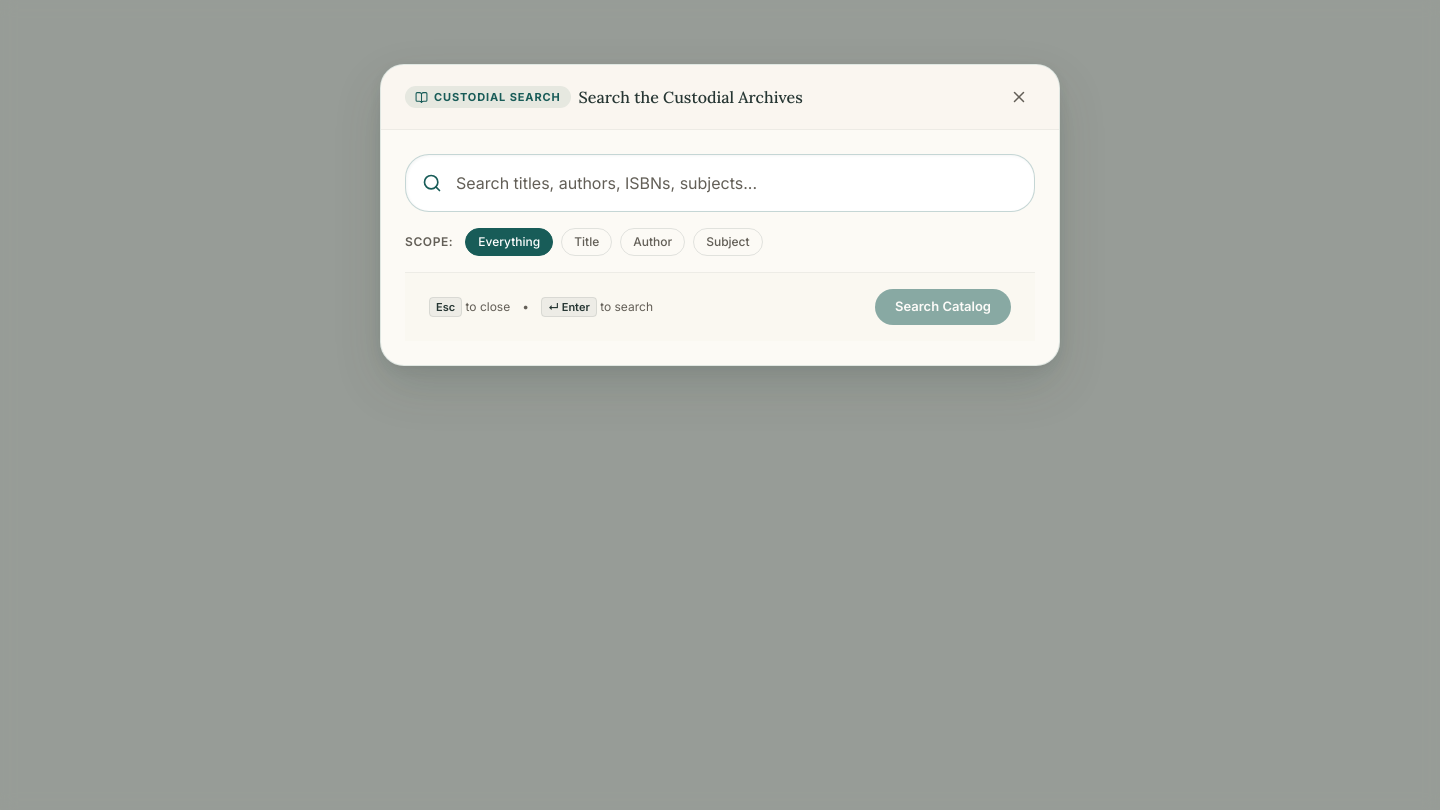
Test: SearchModal Component › allows user to type into the search field and clear it
This screenshot has width=1440, height=810.
Type "Borges" into the search field named "Search catalog folios" at (738, 183), box [442, 155, 1034, 211]
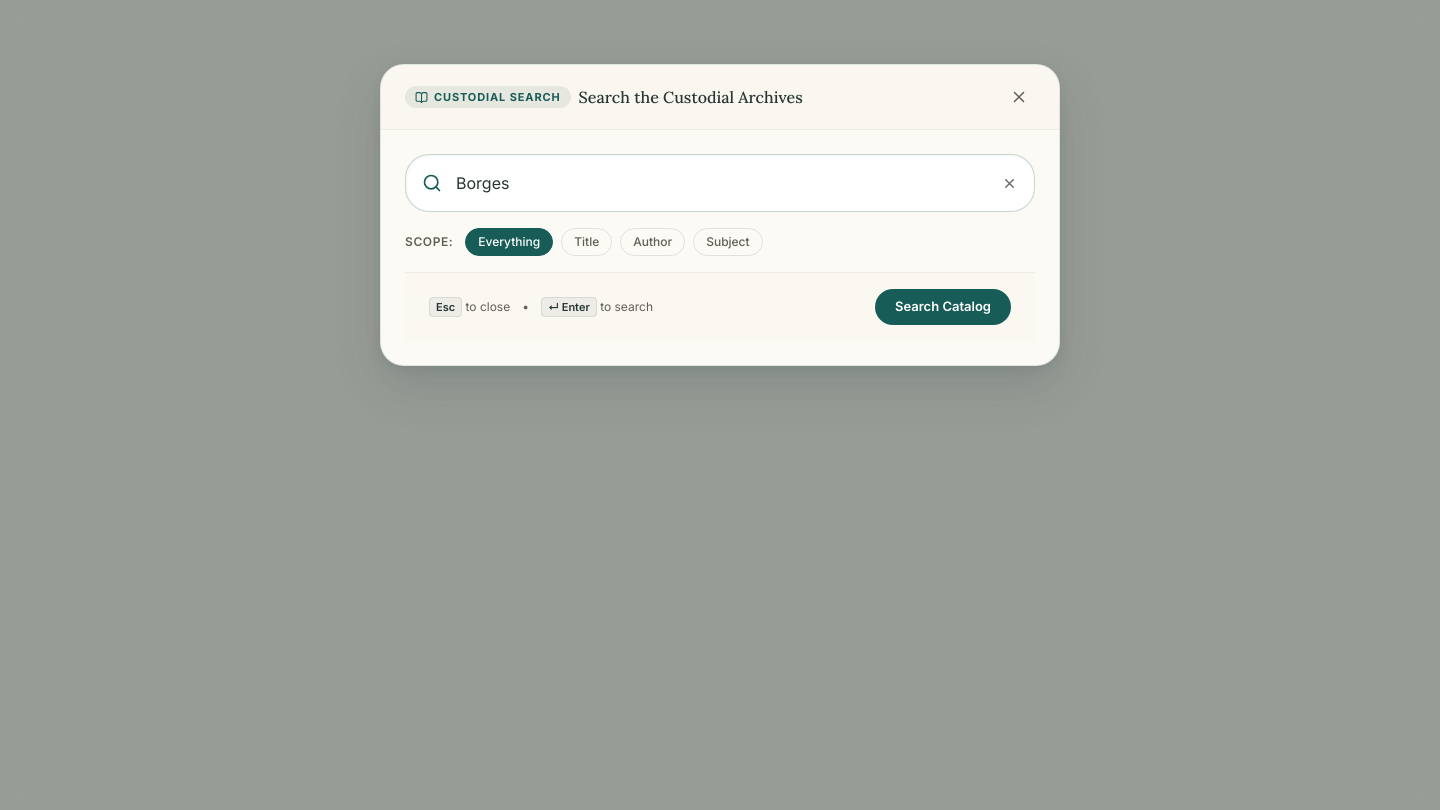
Click the button named "Clear search input" at (1010, 183), box [997, 169, 1022, 197]
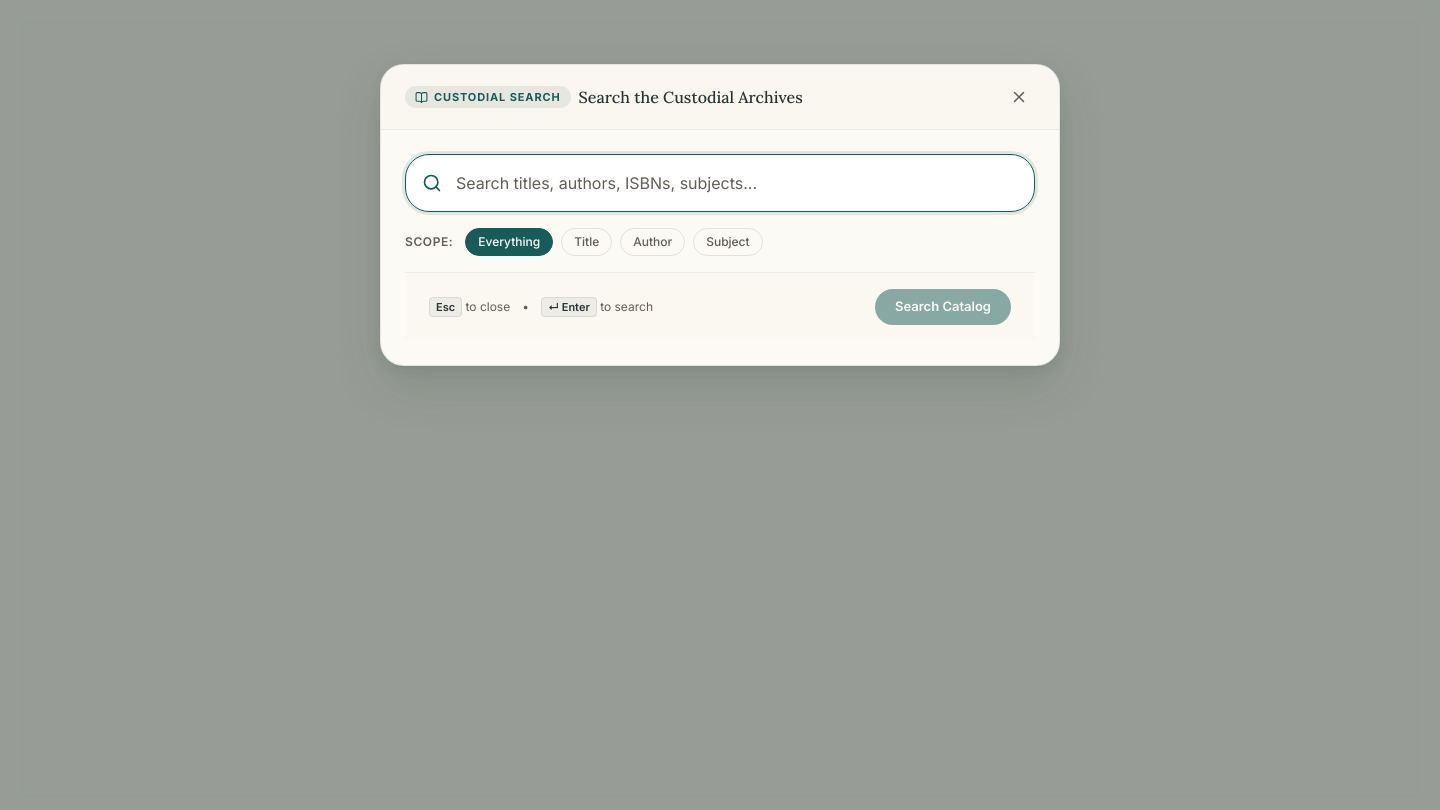
Check: the search field named "Search catalog folios" is empty, box [442, 155, 1034, 211]
